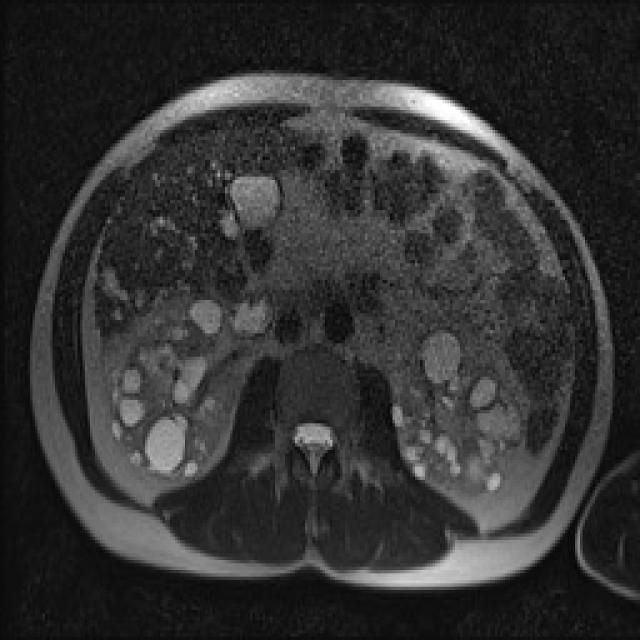sag: (106, 302, 244, 477)
sol: (390, 323, 527, 495)
